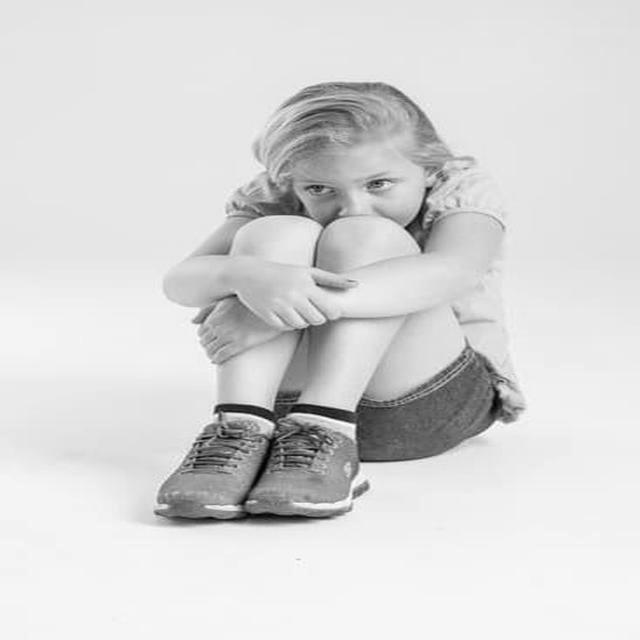Fear: (291, 145, 431, 225)
